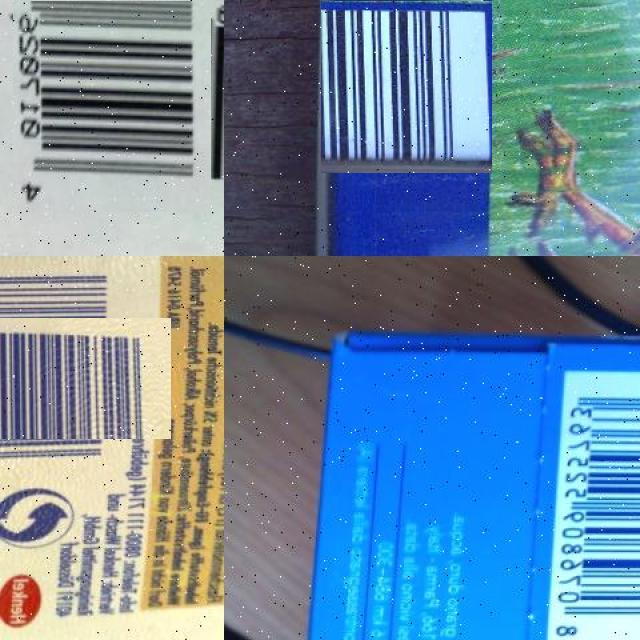Barcode: (6, 0, 217, 206), (320, 0, 492, 173), (0, 293, 146, 464), (550, 378, 640, 640)
